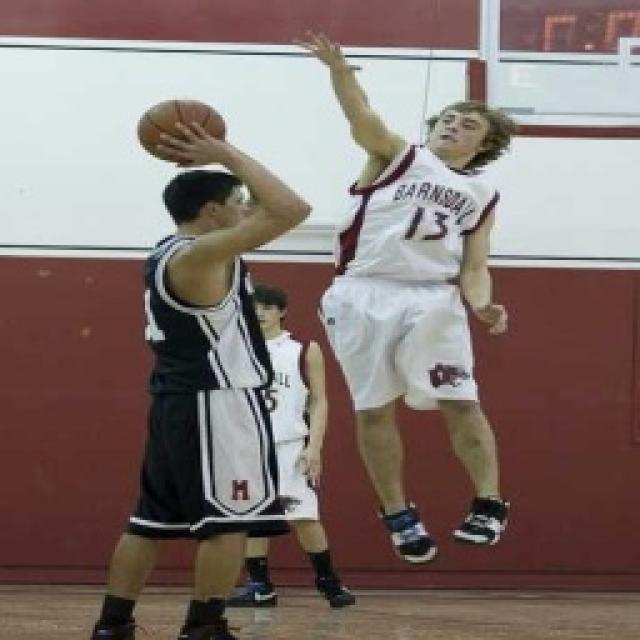rim: (130, 91, 234, 170)
